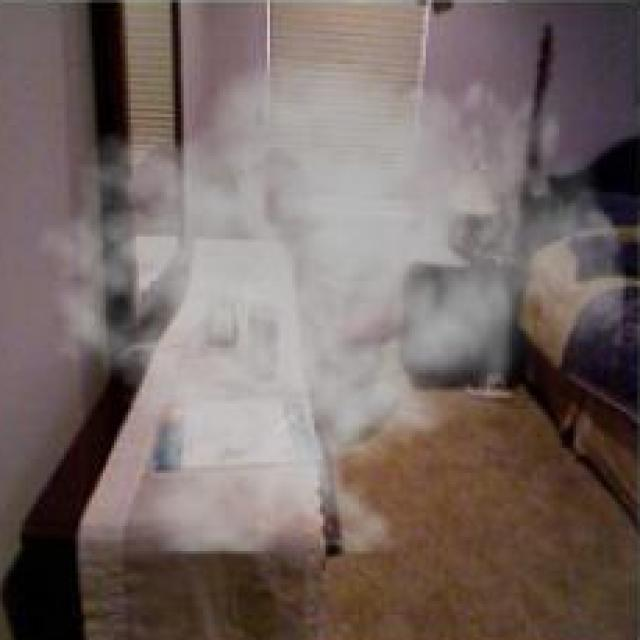fire: (35, 50, 628, 559)
